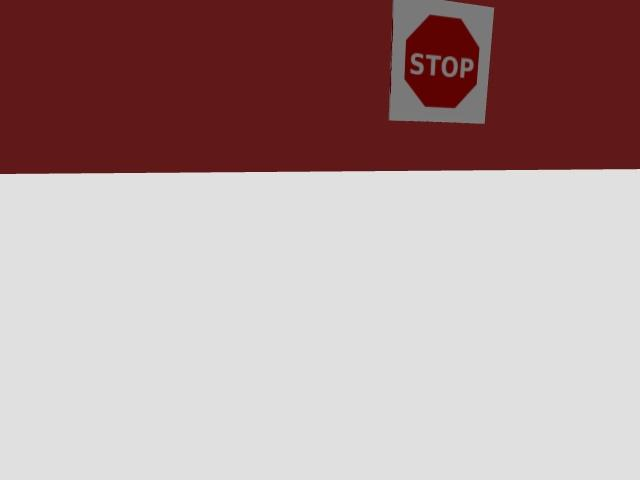stop: (389, 0, 493, 123)
